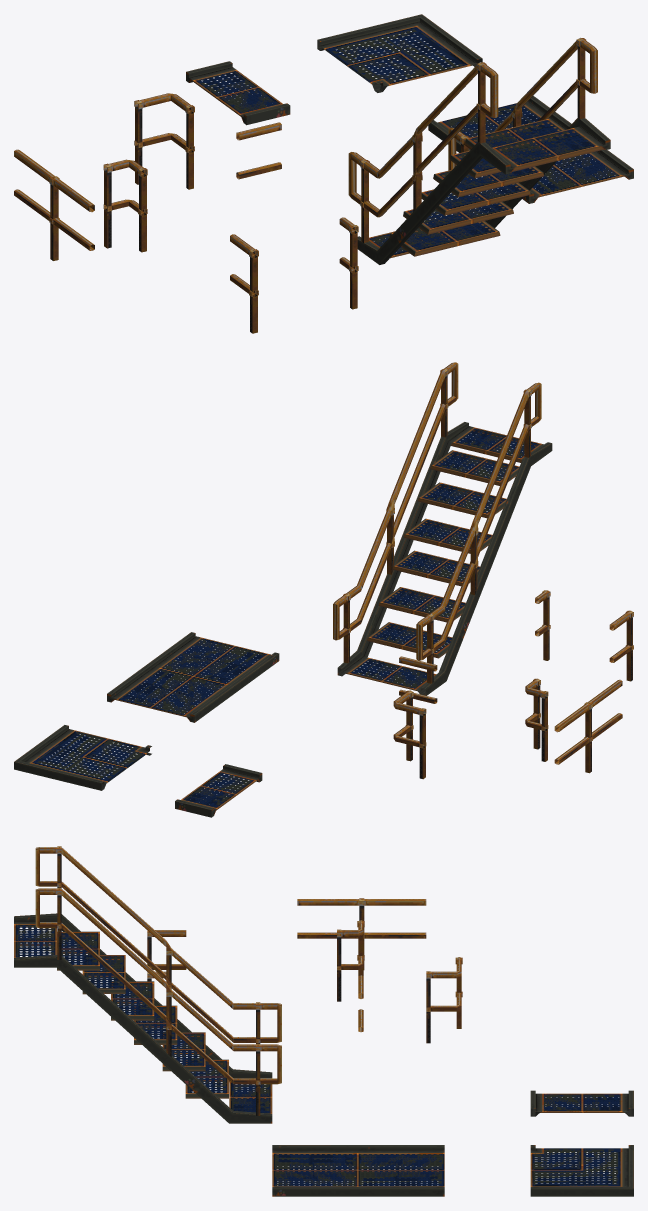
Rendered from catwalks.fbx.
3 views of the same model, one above another, from view 1: azimuth 30°, elevation 25°; view 2: azimuth 150°, elevation 25°; view 3: azimuth 270°, elevation 25° (orthographic). The views are drawn at different scales.
Parts seen in each view (by area): view 1: catwalk_stairs, catwalk_corner, catwalk_straight x1, catwalk_straight x0.25, handrail_ladder, handrail_middle_big, handrail_outer_corner, handrail_inner_corner, handrail_ladder.001, catwalk_stairs.002, handrail_end.002, handrail_end.001 (+5 smaller); view 2: catwalk_stairs, catwalk_straight x1, catwalk_corner, handrail_ladder, handrail_ladder.001, catwalk_straight x0.25, handrail_middle_big, catwalk_stairs.001, catwalk_stairs.002, handrail_outer_corner, handrail_inner_corner, handrail_end.003 (+5 smaller); view 3: catwalk_stairs, catwalk_straight x1, catwalk_corner, handrail_ladder.001, handrail_ladder, catwalk_straight x0.25, handrail_middle_big, catwalk_stairs.002, handrail_outer_corner, catwalk_stairs.001, handrail_inner_corner, handrail_end.003 (+4 smaller).
Part boxes in pixels (x1,y1,x2,y2): catwalk_stairs: (357, 118, 610, 264); catwalk_corner: (317, 14, 482, 92); catwalk_straight x1: (428, 95, 633, 203); catwalk_straight x0.25: (186, 61, 290, 125); handrail_ladder: (377, 65, 477, 217); handrail_middle_big: (14, 149, 94, 260); handrail_outer_corner: (134, 93, 194, 189); handrail_inner_corner: (103, 159, 147, 252); handrail_ladder.001: (488, 41, 577, 174); catwalk_stairs.002: (465, 118, 571, 154); handrail_end.002: (576, 37, 597, 118); handrail_end.001: (476, 62, 498, 143); catwalk_stairs: (337, 422, 552, 695); catwalk_straight x1: (107, 632, 279, 722); catwalk_corner: (14, 725, 151, 790); handrail_ladder: (440, 391, 528, 642); handrail_ladder.001: (357, 370, 445, 623); catwalk_straight x0.25: (175, 764, 262, 817); handrail_middle_big: (554, 679, 622, 773); catwalk_stairs.001: (418, 482, 506, 518); catwalk_stairs.002: (430, 450, 519, 485); handrail_outer_corner: (393, 690, 426, 779); handrail_inner_corner: (525, 678, 548, 761); handrail_end.003: (333, 593, 350, 663); catwalk_stairs: (14, 913, 272, 1123); catwalk_straight x1: (272, 1145, 444, 1196); catwalk_corner: (530, 1145, 633, 1196); handrail_ladder.001: (61, 889, 233, 1083); handrail_ladder: (61, 847, 233, 1042); catwalk_straight x0.25: (530, 1090, 633, 1116); handrail_middle_big: (297, 898, 426, 969); catwalk_stairs.002: (57, 931, 99, 970); handrail_outer_corner: (426, 957, 462, 1043); catwalk_stairs.001: (82, 955, 125, 994); handrail_inner_corner: (337, 920, 364, 1001); handrail_end.003: (256, 1044, 281, 1115).
Size of the model in its own units: 607 by 300 by 720.
